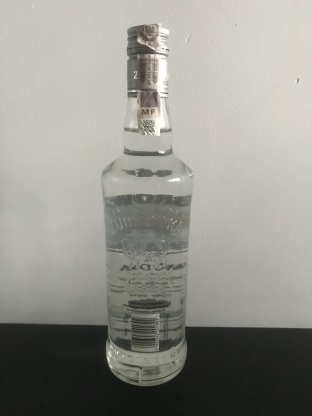nakretka: (124, 21, 171, 98)
